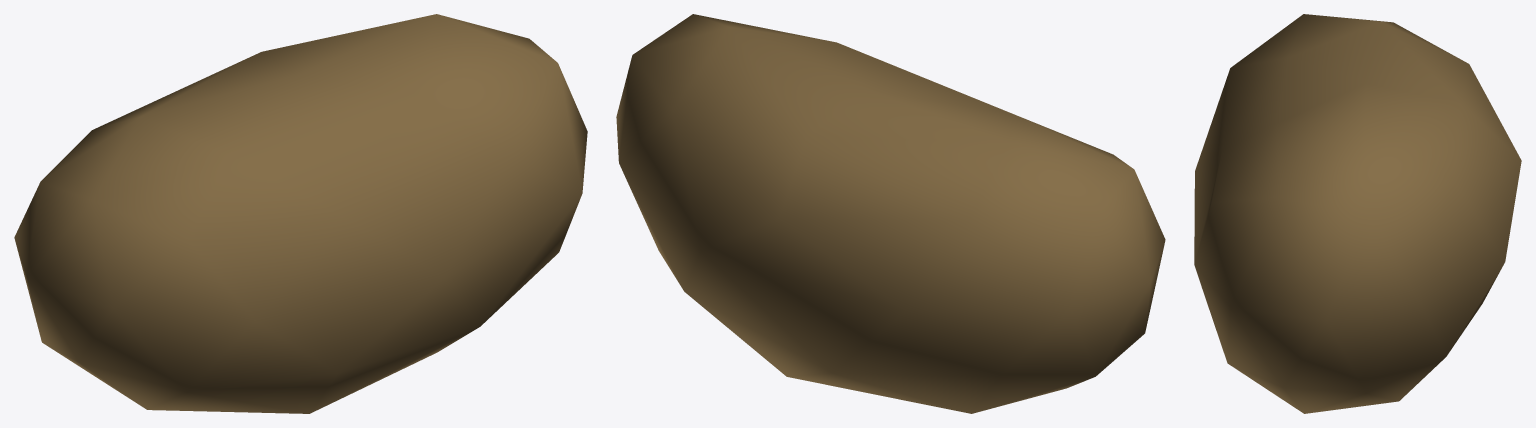
File: Potato.glb
3 views of the same model, side by side, from view 1: azimuth 30°, elevation 25°; view 2: azimuth 150°, elevation 25°; view 3: azimuth 270°, elevation 25° (orthographic).
Parts seen in each view (by area): view 1: Icosphere; view 2: Icosphere; view 3: Icosphere.
Boxes of the visible parts, x1,y1,x2,y2 form: Icosphere: (14,14,587,413); Icosphere: (616,14,1165,413); Icosphere: (1194,14,1521,413).
Bounding box in the file's own units: 3.66 × 2.16 × 1.91.
